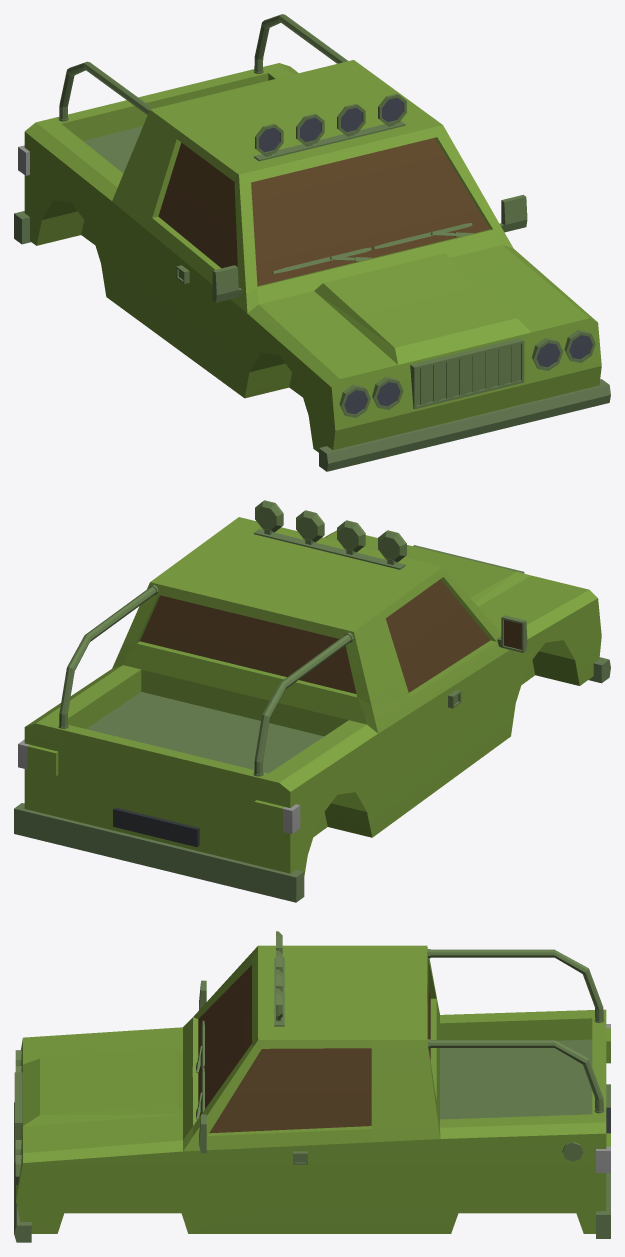
The model's file is Car_35.fbx.
3 renders of one model, top to bottom at view 1: azimuth 30°, elevation 25°; view 2: azimuth 150°, elevation 25°; view 3: azimuth 270°, elevation 25°, orthographic. The views are drawn at different scales.
Visible parts, largest first — view 1: Car_35; view 2: Car_35; view 3: Car_35.
Part boxes in pixels (<box>): Car_35: <box>14,14,610,471</box>; Car_35: <box>14,500,610,902</box>; Car_35: <box>14,931,610,1242</box>.
Bounding box in the file's own units: 1.87 × 1.3 × 3.28.
